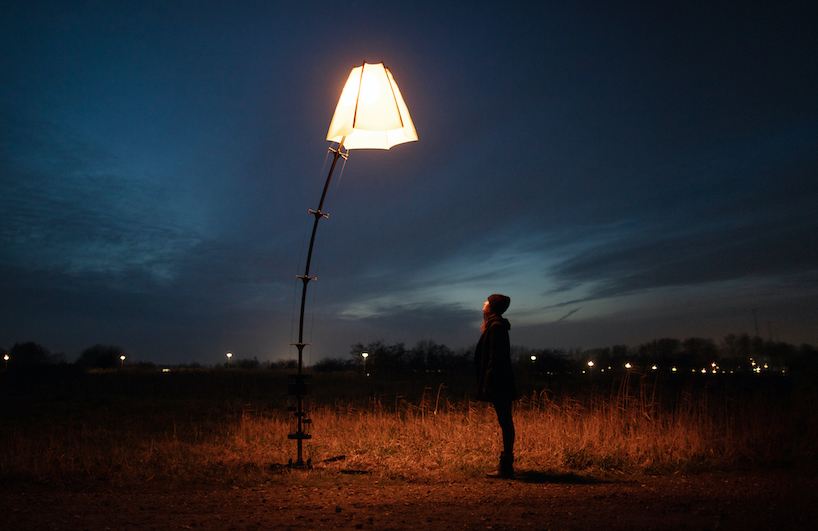Lamp: (275, 53, 447, 467)
Person: (465, 283, 539, 479)
